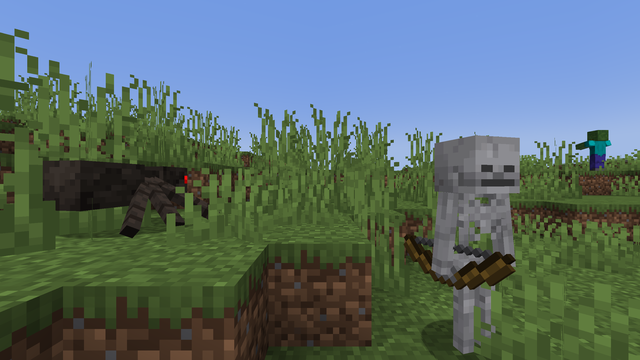araignees: (26, 154, 209, 236)
squelettes: (430, 136, 530, 356)
zombies: (585, 130, 610, 161)
